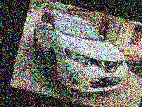car: (22, 7, 138, 101)
